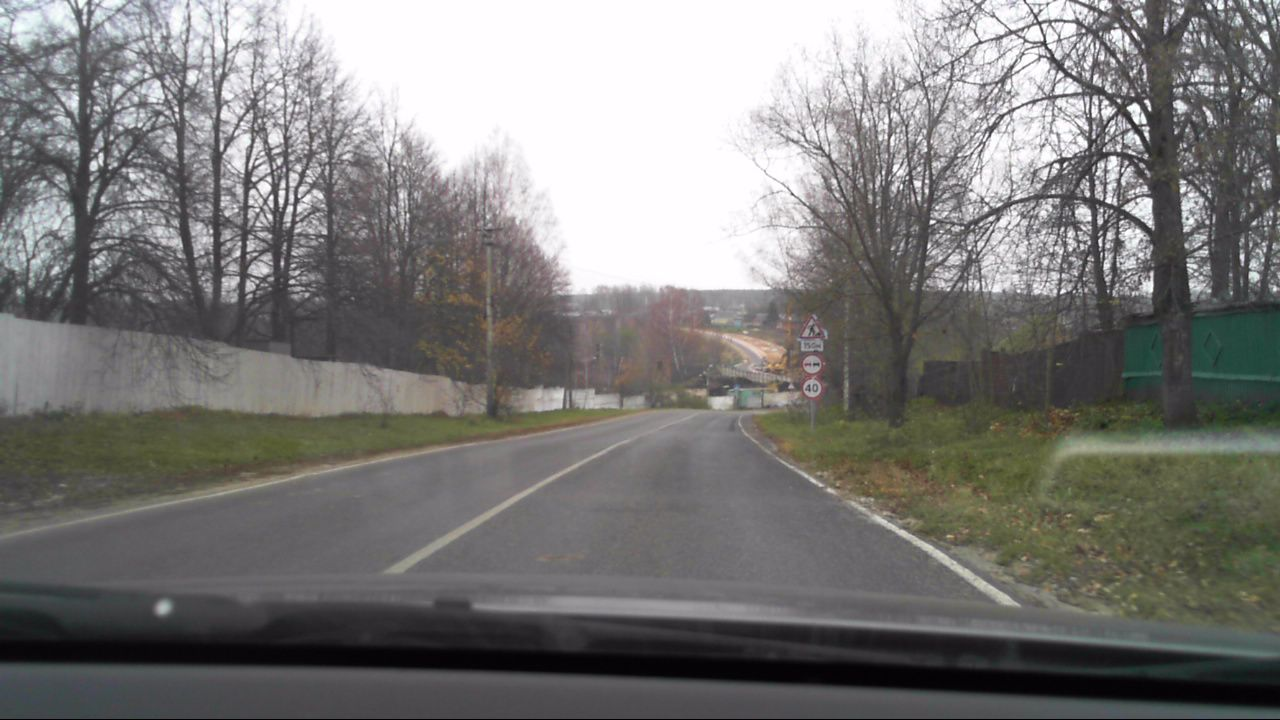speed_warning_40: (801, 378, 822, 398)
